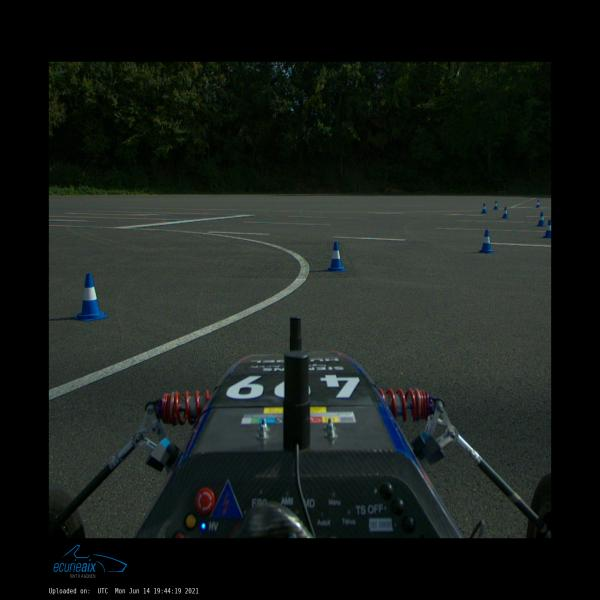blue_cone: (76, 273, 108, 321), (326, 242, 347, 272), (478, 230, 493, 254), (542, 220, 551, 238), (537, 212, 546, 226), (501, 207, 509, 218), (480, 203, 486, 214), (493, 200, 498, 210), (536, 200, 540, 207)
